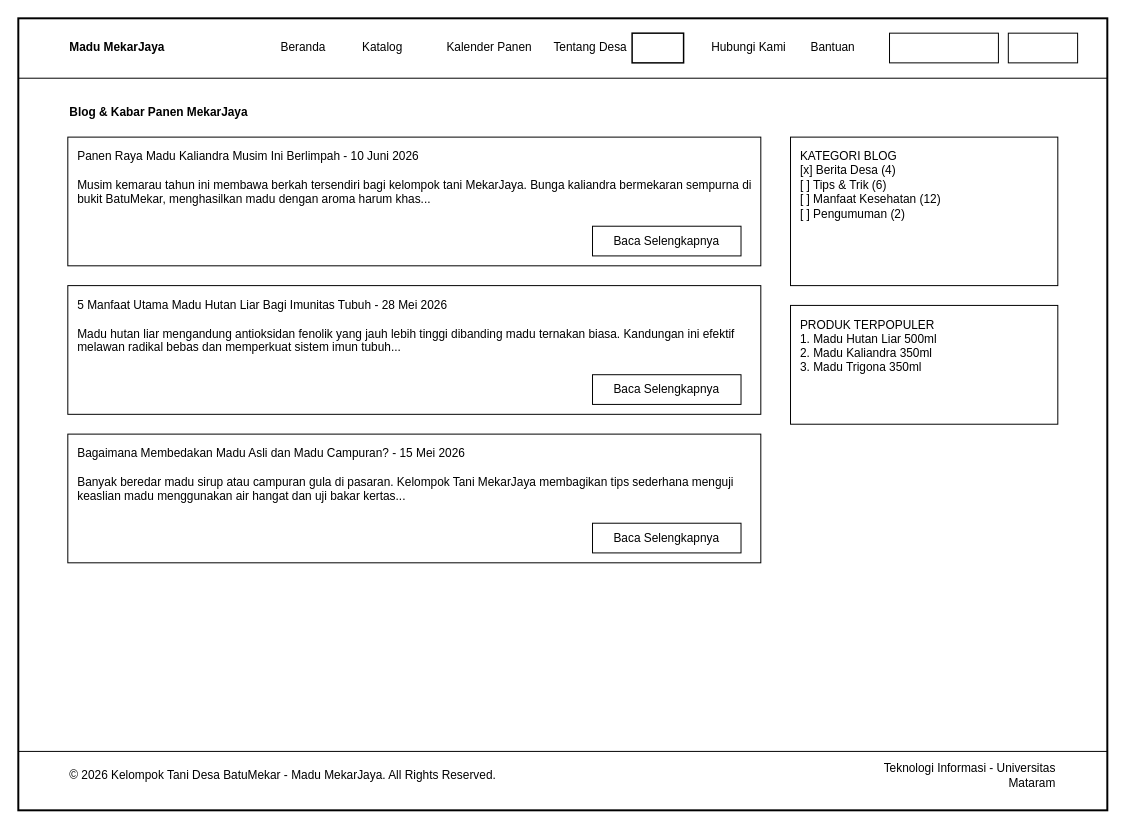
Some shapes in this 1125 by 828 pixel diagram are drawn without their labels. Here are the shapes that lost their labels. From the top down, the centre of each, then its label:
At point (657, 47): "Blog".
At point (943, 47): "[Icon] Keranjang (2)".
At point (1042, 47): "[Icon] Akun".
